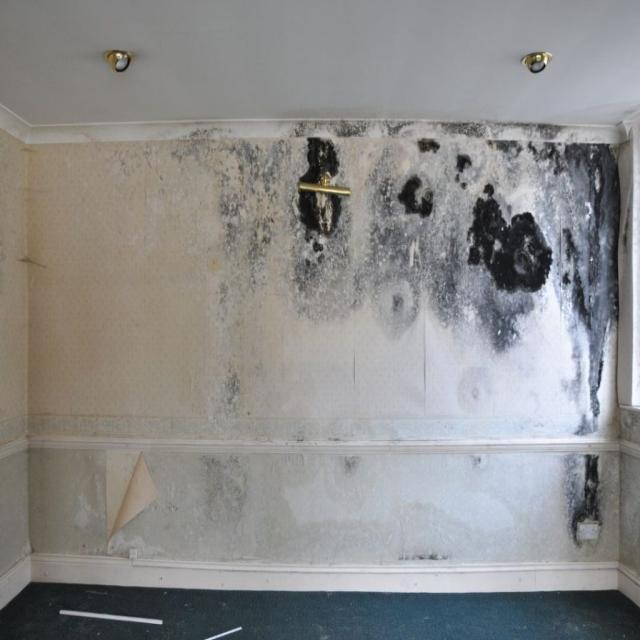dampness: (156, 119, 616, 535)
